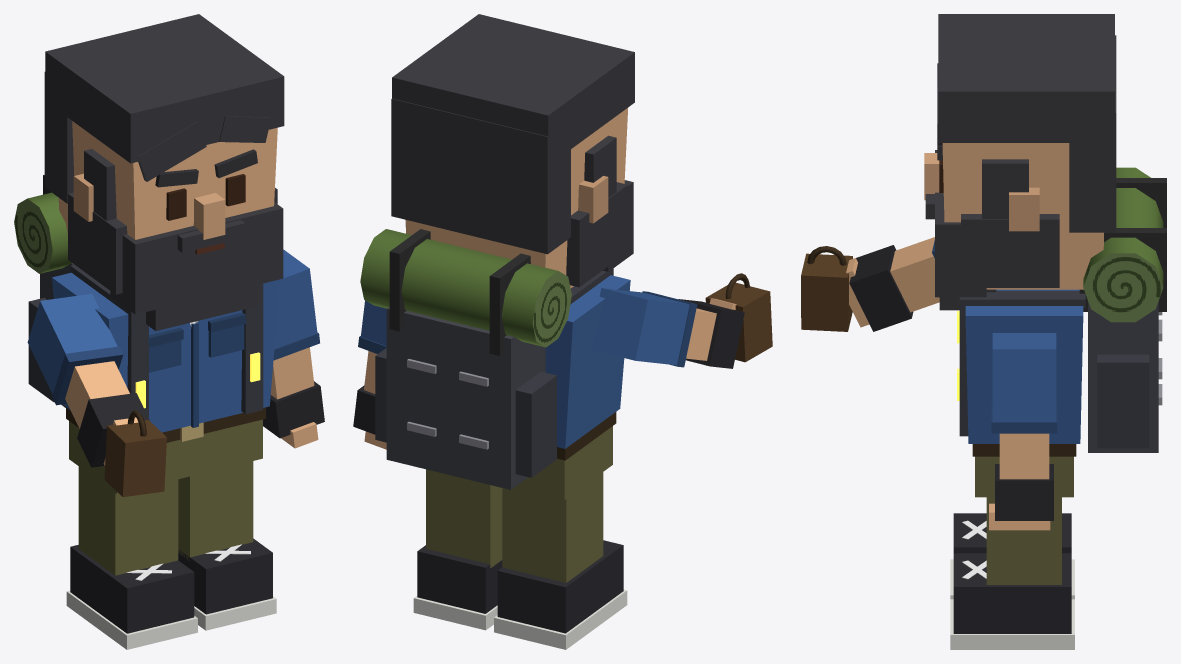
Rendered from GhostHunter_Classic.glb.
3 renders of one model, left to right at view 1: azimuth 30°, elevation 25°; view 2: azimuth 150°, elevation 25°; view 3: azimuth 270°, elevation 25°, orthographic. The views are drawn at different scales.
Visible parts, largest first — view 1: GhostHunter, Hair, Leg (×2), Boot (×2), Beard, Torso, Head, Sleeve (×2), Hips, Glove (×2), Forearm (×2), Strap (×2) (+9 smaller); view 2: GhostHunter, Hair, Backpack, Leg (×2), Bedroll, Boot (×2), Torso, Sleeve (×2), Head, Sole (×2), Hips, Glove (×2) (+4 smaller); view 3: GhostHunter, Hair, Torso, Head, Boot (×2), Bedroll, Glove (×2), Sleeve, Backpack, Forearm (×2), Leg, Beard (+6 smaller).
Part boxes in pixels (x1,y1,x2,y2): GhostHunter: (28, 72, 319, 580); Hair: (45, 14, 284, 163); Leg (×2): (78, 461, 253, 575); Boot (×2): (70, 538, 272, 633); Beard: (110, 202, 283, 314); Torso: (52, 272, 279, 432); Head: (58, 121, 277, 239); Sleeve (×2): (27, 249, 317, 394); Hips: (69, 419, 262, 493); Glove (×2): (77, 381, 324, 467); Forearm (×2): (65, 347, 314, 428); Strap (×2): (126, 283, 263, 417); GhostHunter: (358, 98, 772, 477); Hair: (392, 14, 634, 165); Backpack: (386, 307, 545, 489); Leg (×2): (426, 469, 603, 582); Bedroll: (360, 229, 571, 347); Boot (×2): (417, 540, 623, 633); Torso: (545, 275, 630, 448); Sleeve (×2): (360, 288, 689, 365); Head: (405, 107, 628, 288); Sole (×2): (413, 589, 627, 649); Hips: (514, 426, 612, 499); Glove (×2): (353, 299, 744, 434); GhostHunter: (801, 35, 1166, 579); Hair: (938, 14, 1114, 142); Torso: (965, 289, 1083, 443); Head: (942, 143, 1103, 289); Boot (×2): (953, 513, 1071, 633); Bedroll: (1083, 167, 1163, 322); Glove (×2): (849, 245, 1053, 520); Sleeve: (992, 333, 1056, 421); Backpack: (1088, 301, 1158, 452); Forearm (×2): (890, 237, 1049, 479); Leg: (986, 497, 1061, 584); Beard: (935, 150, 986, 297).
Bounding box in the file's own units: 1.49 × 2.62 × 1.55.
Materials: 28 (1 with a texture image).
